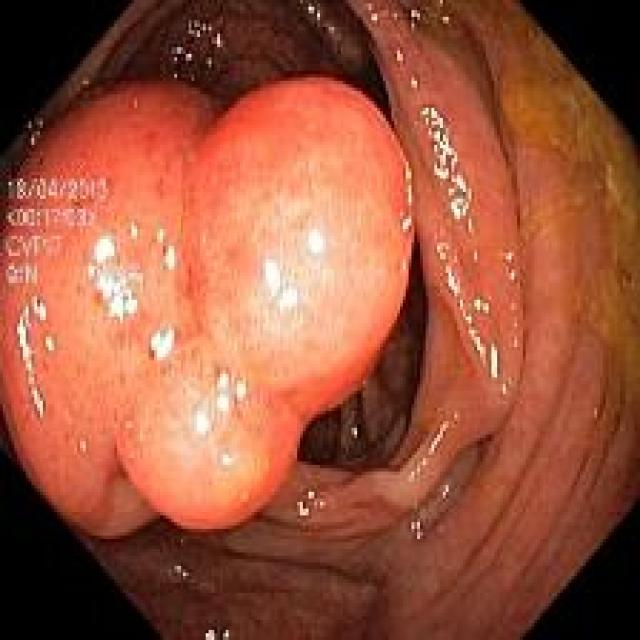Polyps: (1, 77, 415, 538)
